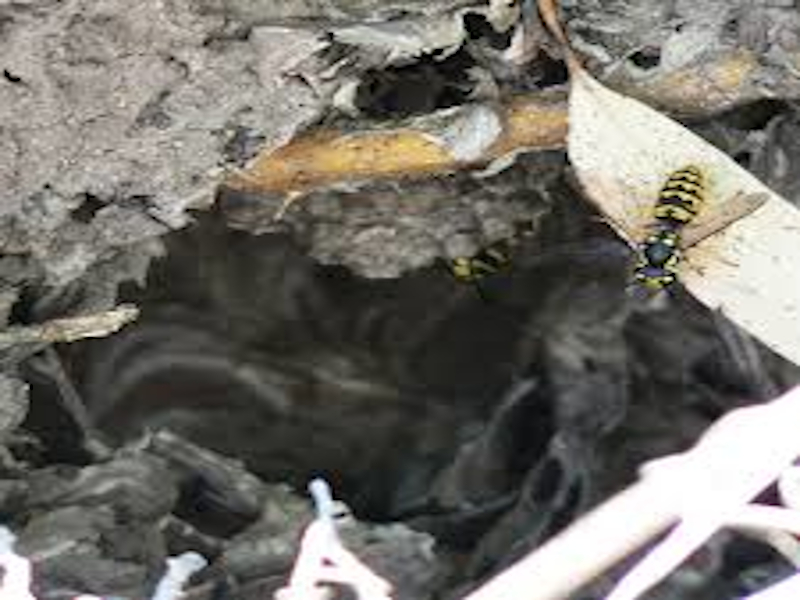chax: (591, 152, 778, 308)
